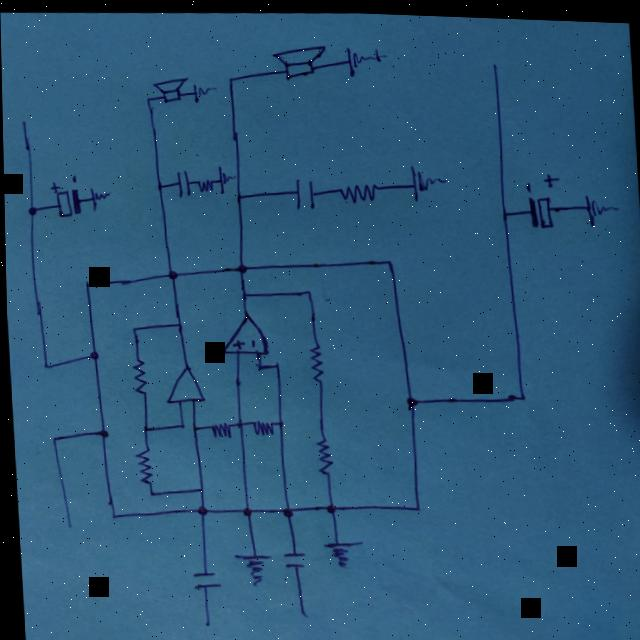capacitor: (523, 167, 561, 225), (46, 173, 80, 216), (166, 165, 192, 199), (290, 175, 315, 209), (188, 566, 214, 588), (277, 547, 303, 569)
ground: (396, 152, 449, 204), (230, 549, 268, 585), (344, 43, 382, 75), (582, 189, 619, 221), (318, 535, 352, 567), (187, 76, 217, 101), (212, 161, 232, 194), (87, 183, 110, 208)
junction: (401, 387, 417, 409), (318, 496, 337, 514), (191, 498, 208, 517), (275, 500, 292, 517), (236, 500, 251, 519), (163, 266, 180, 281), (92, 424, 108, 439), (510, 386, 527, 399), (86, 344, 98, 361), (234, 259, 248, 273), (496, 203, 510, 217), (25, 202, 37, 215), (381, 253, 395, 264), (152, 178, 164, 190), (233, 189, 245, 201), (237, 286, 249, 297), (408, 499, 421, 509), (137, 423, 149, 433), (47, 434, 59, 444), (106, 510, 117, 520), (225, 73, 237, 82), (142, 93, 154, 102), (40, 360, 50, 370), (145, 488, 155, 497), (187, 423, 197, 432), (270, 358, 280, 367), (173, 318, 183, 327), (128, 323, 138, 332), (232, 417, 243, 425), (193, 484, 203, 492), (175, 420, 185, 428), (301, 285, 311, 293), (273, 417, 283, 425), (253, 361, 263, 369), (82, 279, 92, 287)
resistor: (335, 178, 378, 200), (129, 444, 152, 485), (244, 411, 276, 437), (313, 433, 331, 473), (201, 416, 233, 438), (128, 356, 145, 396), (190, 168, 217, 193), (304, 341, 321, 379)
terminal: (489, 55, 501, 69), (18, 116, 28, 129), (61, 519, 71, 530), (198, 616, 208, 627), (295, 606, 305, 616)
